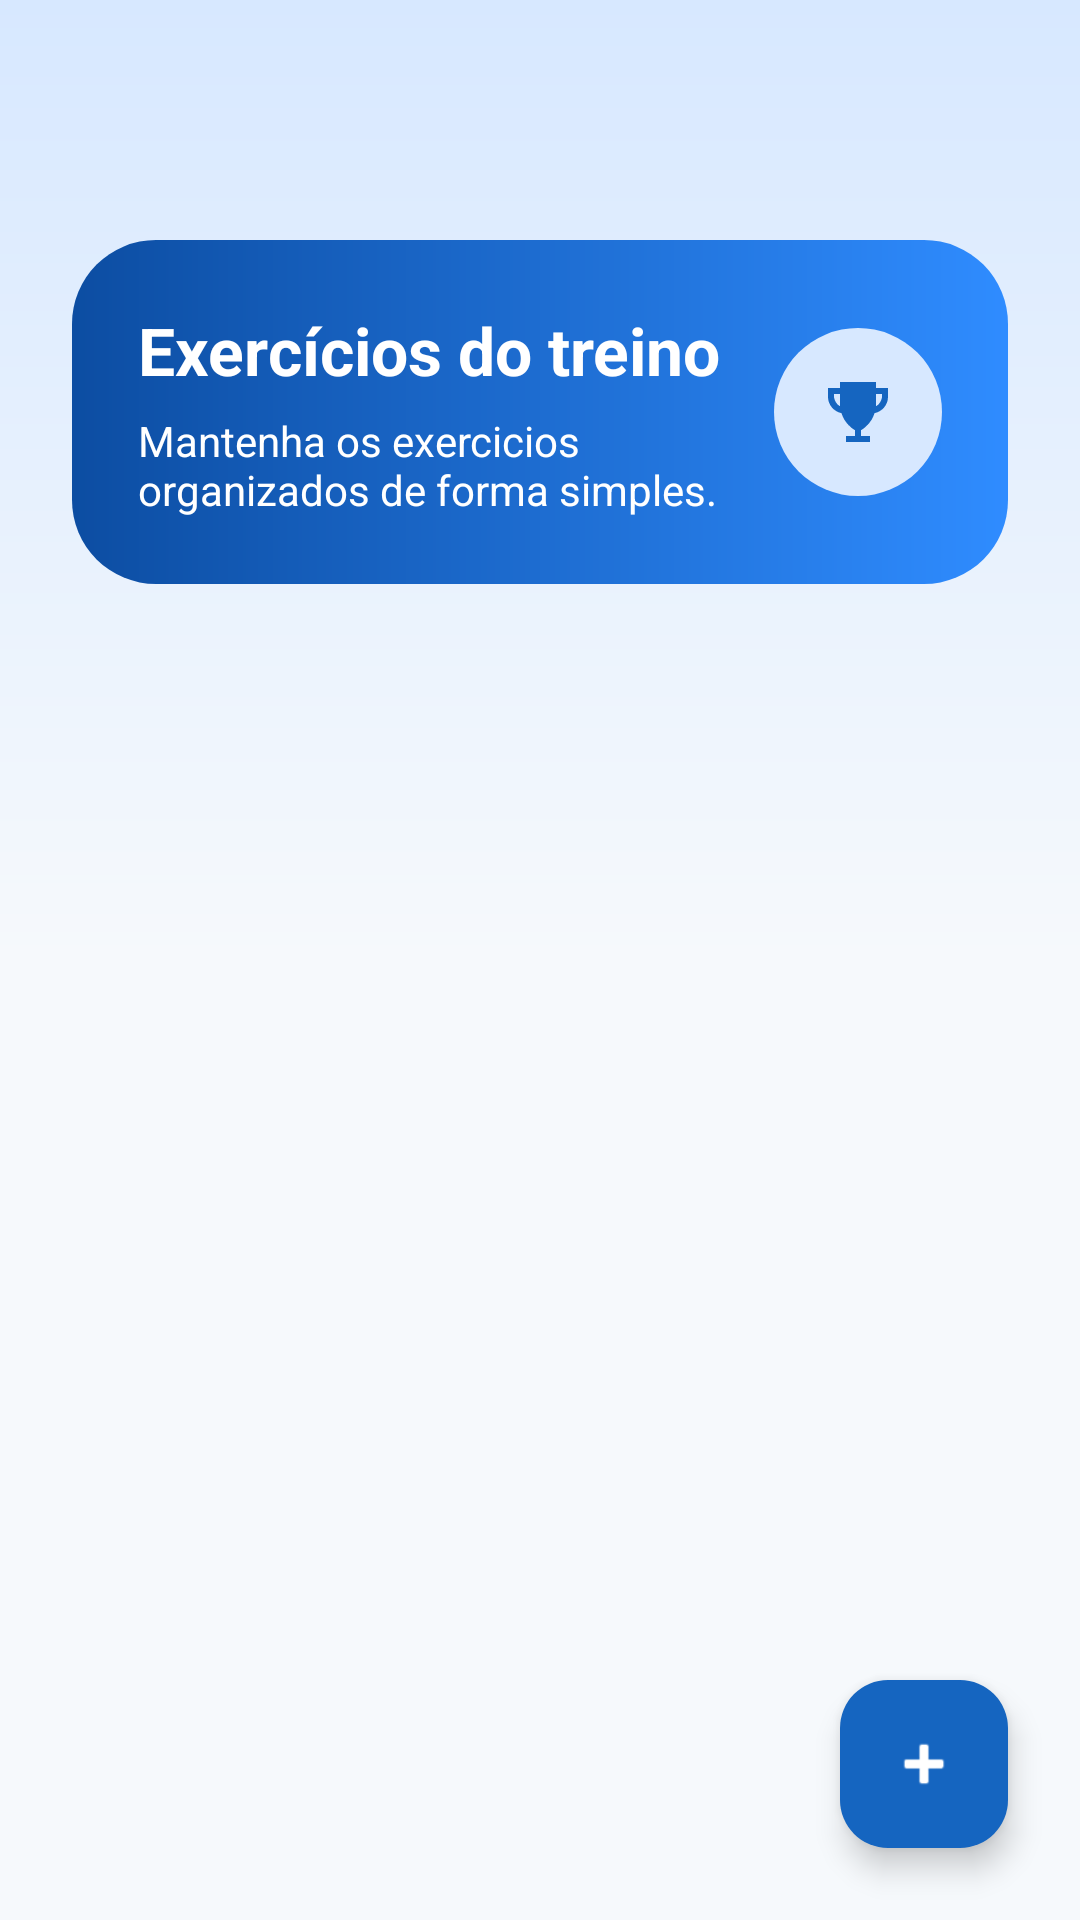

Screen size 1080 × 1920. Icon name, then its center in pixels as (x=x, y=y):
Adicionar exercício: (x=924, y=1764)
